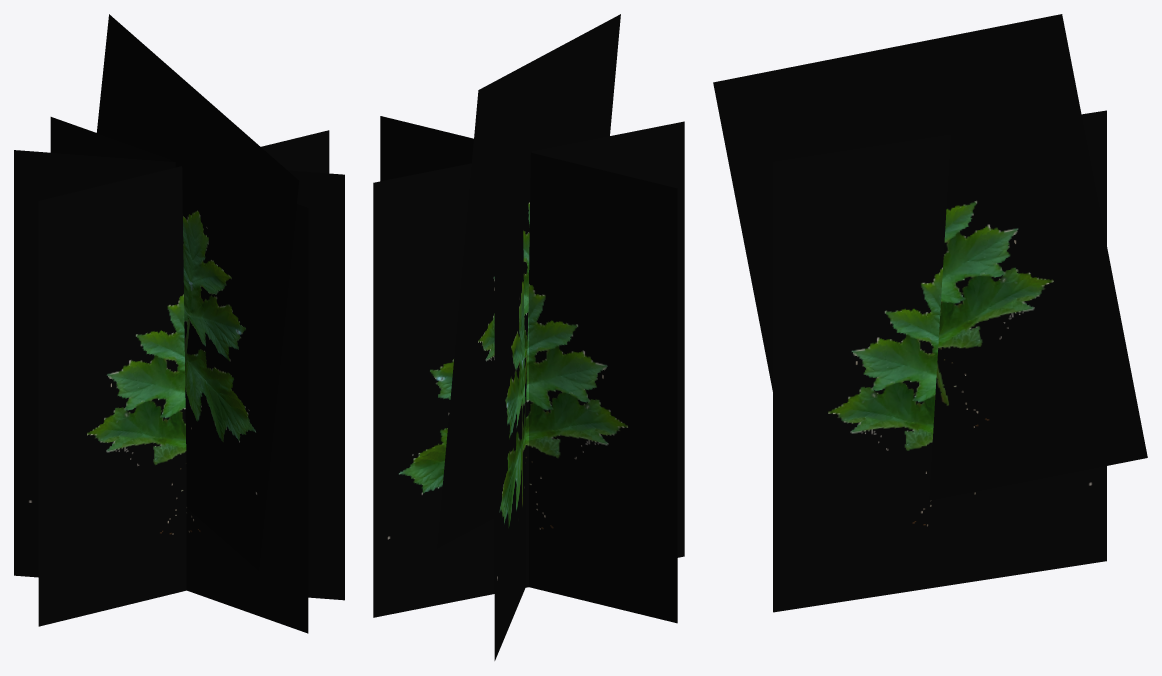
The model's file is fol3_noback_edit.glb.
3 renders of one model, left to right at view 1: azimuth 30°, elevation 25°; view 2: azimuth 150°, elevation 25°; view 3: azimuth 270°, elevation 25°, orthographic. The views are drawn at different scales.
Visible parts, largest first — view 1: Plane, Plane.001, Plane.004, Plane.003; view 2: Plane, Plane.002, Plane.001, Plane.003; view 3: Plane.001, Plane.003.
Part boxes in pixels (x1,y1,x2,y2): Plane: (38, 130, 329, 626); Plane.001: (96, 14, 299, 569); Plane.004: (14, 150, 344, 600); Plane.003: (50, 117, 308, 633); Plane: (380, 116, 677, 623); Plane.002: (373, 121, 684, 617); Plane.001: (437, 14, 620, 548); Plane.003: (494, 161, 525, 660); Plane.001: (713, 14, 1147, 500); Plane.003: (773, 110, 1106, 612).
Bounding box in the file's own units: 1.43 × 2.51 × 1.75.
Materials: 1 (1 with a texture image).
